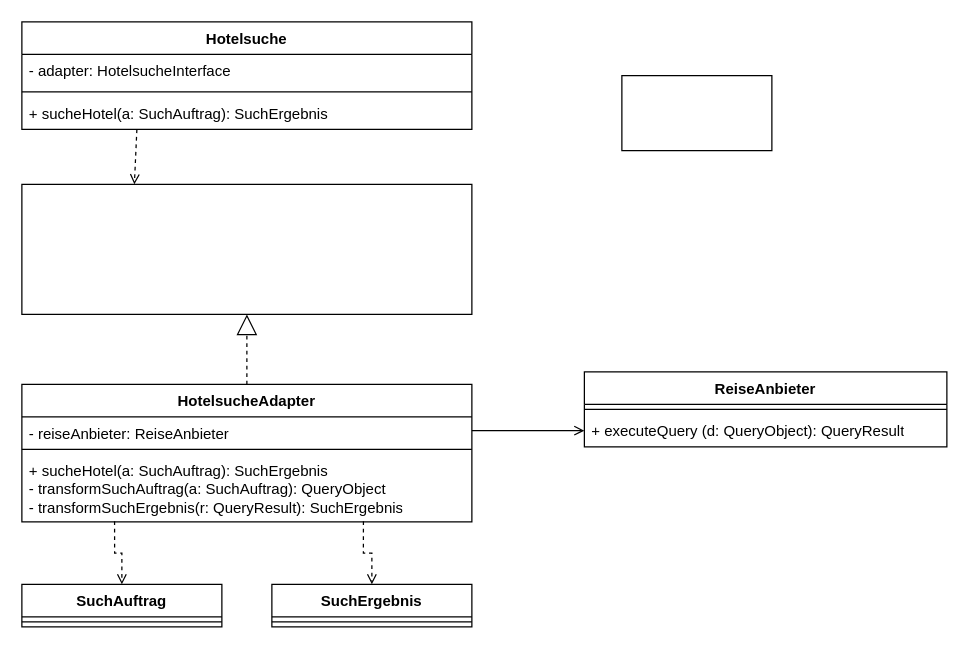
Image size: 969x649. Some labels were removed from this diagram. Here are the shapes that lost their labels. From the top down, the centre of each, then its label:
At (x=696, y=112): "Adapter Pattern".
At (x=246, y=248): "<<Interface>> HotelsucheInterface + sucheHotel(a: SuchAuftrag): SuchErgebnis".
